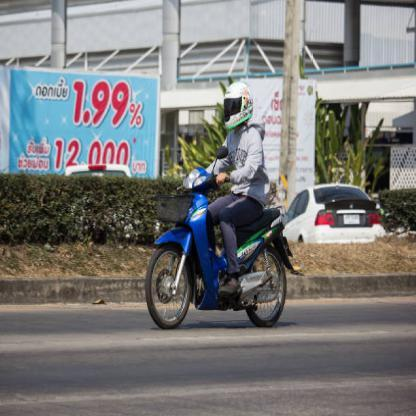Motorcycle: (141, 162, 295, 336)
